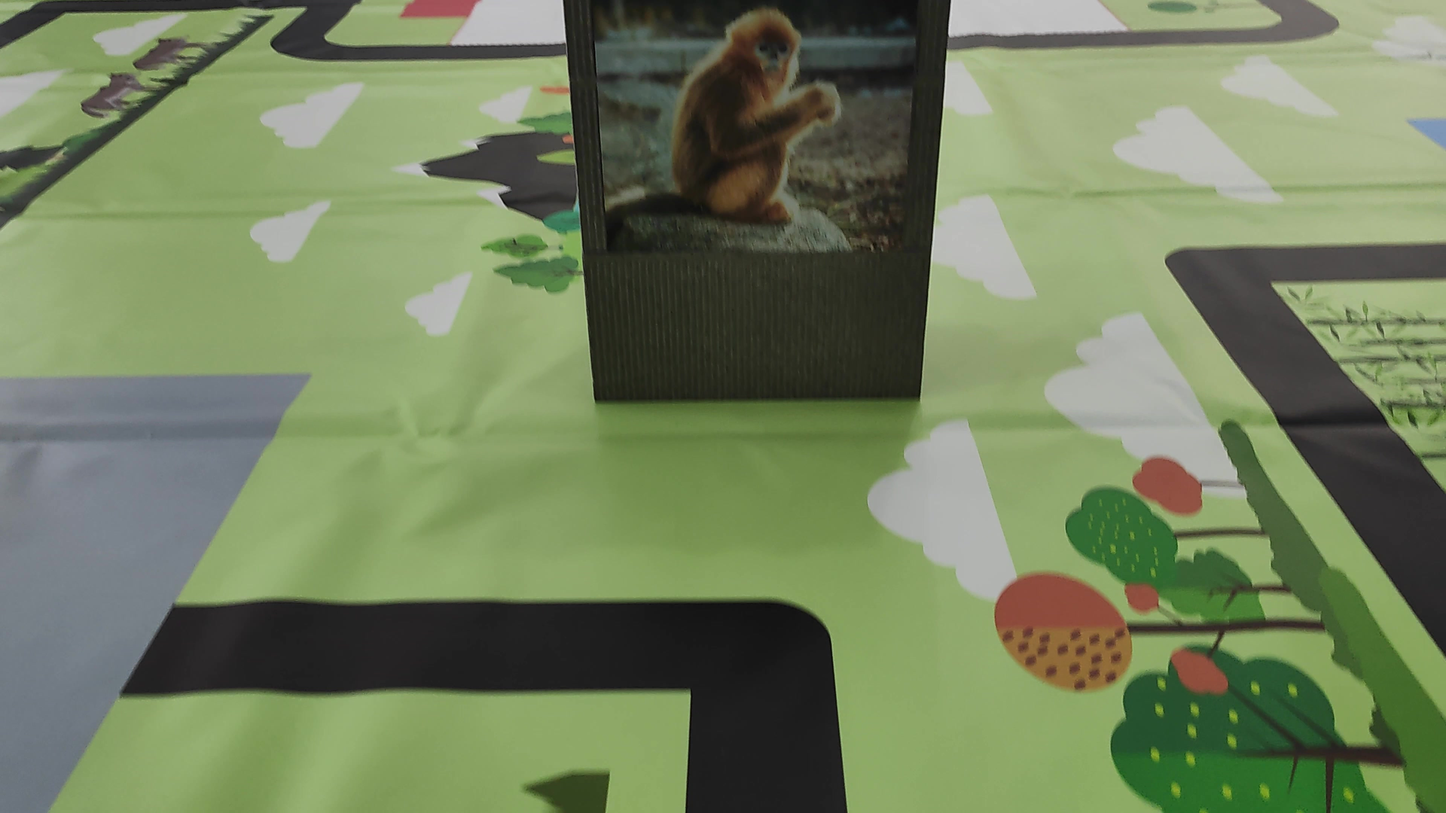monkey: (641, 4, 863, 247)
